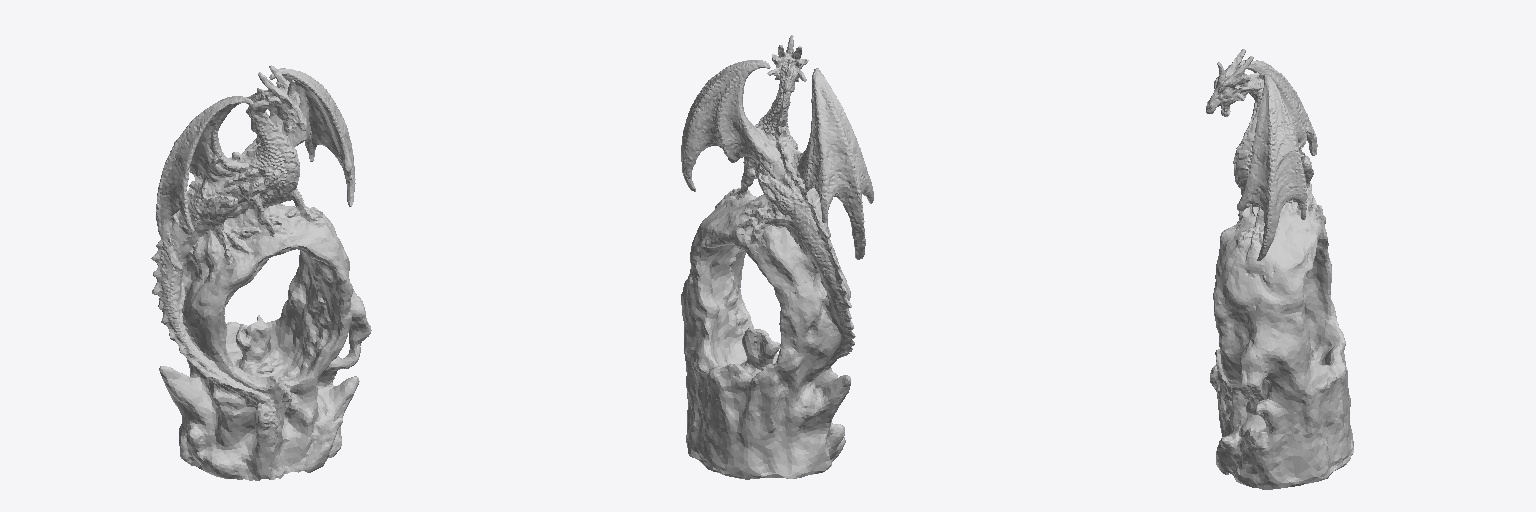
File: ice_dragon.obj
3 renders of one model, left to right at view 1: azimuth 30°, elevation 25°; view 2: azimuth 150°, elevation 25°; view 3: azimuth 270°, elevation 25°, orthographic.
Bounding box in the file's own units: 0.1444 × 0.2822 × 0.0948.